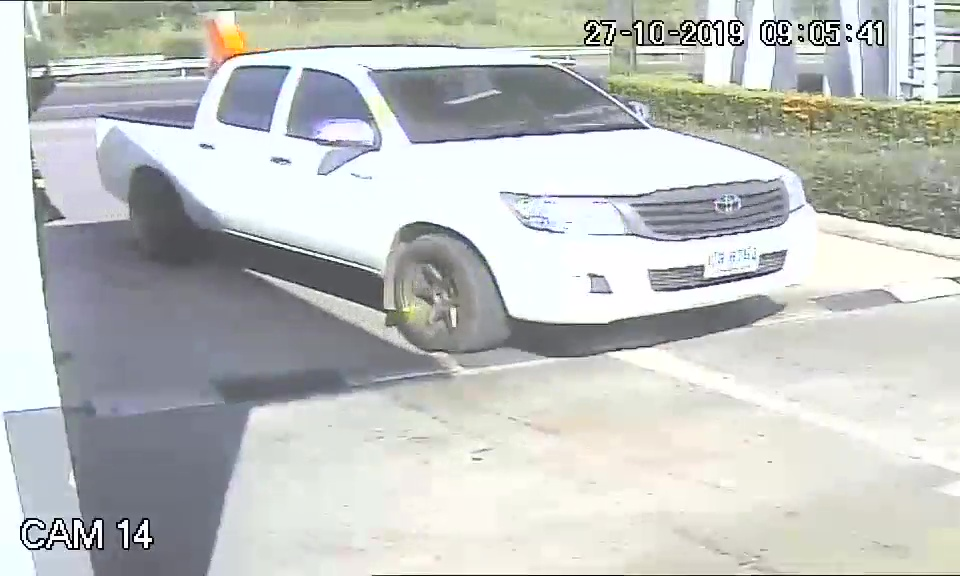pickup: (88, 43, 819, 356)
